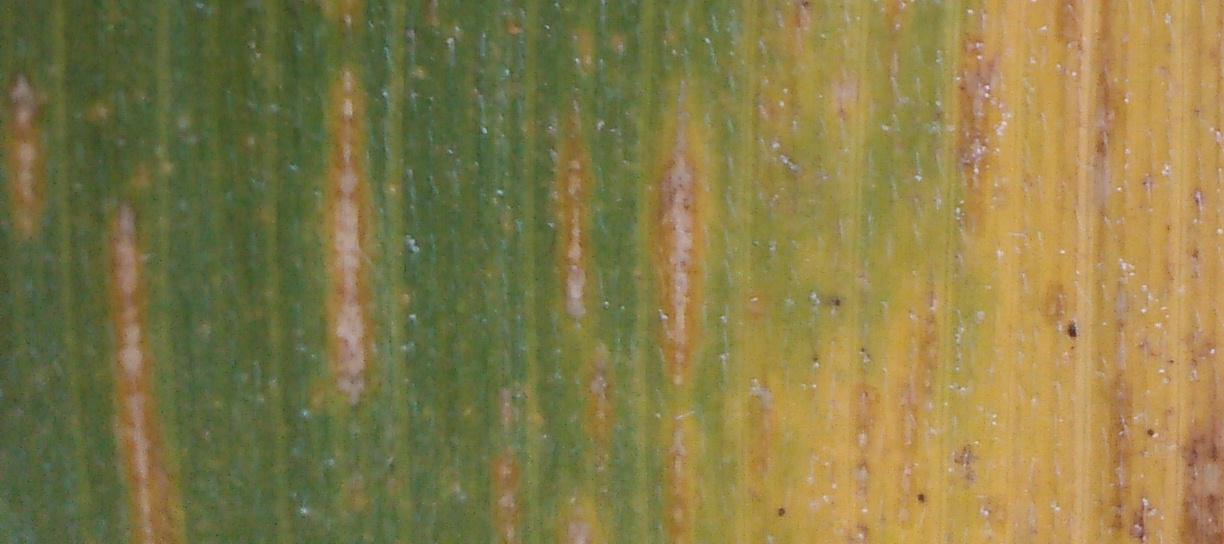tarspot: (1064, 312, 1079, 346), (830, 290, 846, 313), (910, 488, 929, 505), (1144, 423, 1156, 444), (773, 503, 787, 521), (810, 353, 824, 368)
